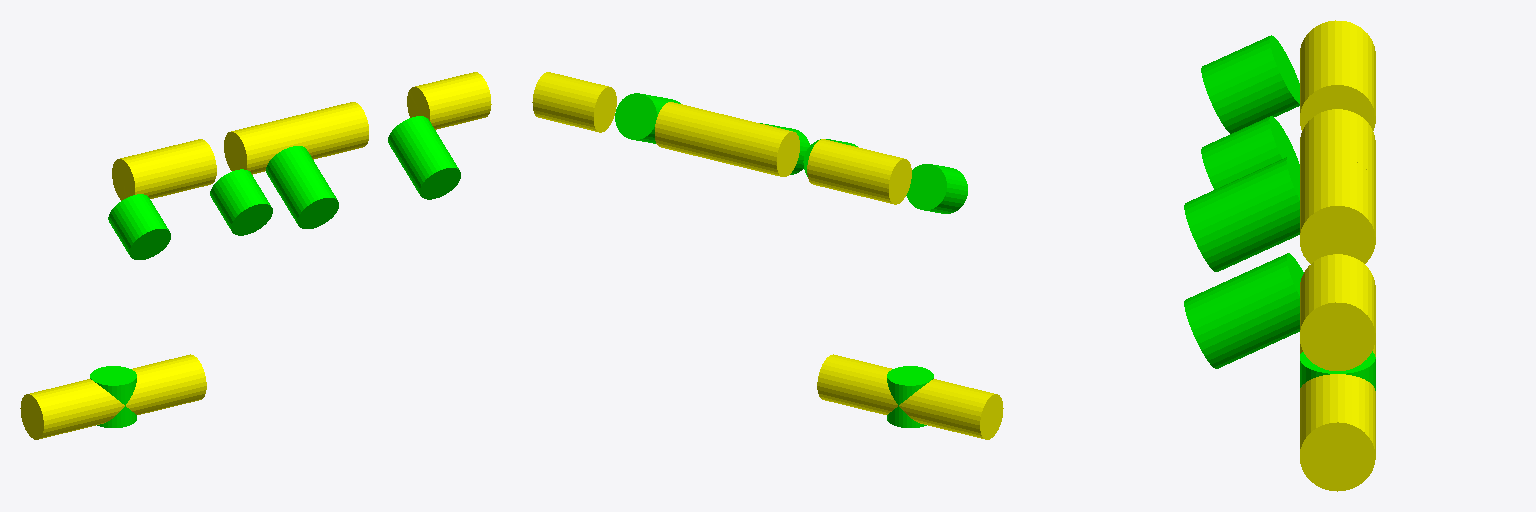
robot.urdf — example_robot:
<robot name="example_robot">

    <!-- Link 0 -->
    <link name="link0_passive">
        <visual>
            <material name="green">
                <color rgba="0 1 0 1"/>
            </material>
            <geometry>
                <cylinder length="0.2" radius="0.1"/>
            </geometry>
        </visual>
    </link>

    <link name="link0_x_axis">
        <visual>
            <material name="yellow">
                <color rgba="1 1 0 1"/>
            </material>
            <geometry>
                <cylinder length="0.8" radius="0.1"/>
            </geometry>
        </visual>
    </link>

    <joint name="q0_x" type="fixed">
        <origin xyz="0 0 0" rpy="0 1.571 0"/>
        <parent link="link0_passive"/>
        <child link="link0_x_axis"/>
    </joint>

    <!-- Link 1 -->
    <link name="link1"/>
    <link name="link1_x_axis">
        <visual>
            <origin xyz="0 0 0.25" rpy="0 0 0"/>
            <material name="yellow"/>
            <geometry>
                <cylinder length="0.4" radius="0.1"/>
            </geometry>
        </visual>
    </link>

    <joint name="q1" type="revolute">
        <origin xyz="0 0 1" rpy="0 0 0"/>
        <parent link="link0_passive"/>
        <child link="link1"/>
        <axis xyz="0 0 1"/>
        <limit effort="100" lower="-1.571" upper="1.571" velocity="1.0"/>
    </joint>

    <joint name="joint1_passive" type="fixed">
        <origin xyz="0 0 0" rpy="90 0 0"/>
        <parent link="link1"/>
        <child link="link1_passive"/>
    </joint>

    <link name="link1_passive">
        <visual>
            <origin xyz="0 0 0.25" rpy="0 0 0"/>
            <material name="green"/>
            <geometry>
                <cylinder length="0.2" radius="0.1"/>
            </geometry>
        </visual>
    </link>

    <joint name="joint1_x" type="fixed">
        <origin xyz="0 0 0" rpy="0 1.571 0"/>
        <parent link="link1_passive"/>
        <child link="link1_x_axis"/>
    </joint>

    <!-- Link 2 -->
    <link name="link2"/>
    <link name="link2_x_axis">
        <visual>
            <origin xyz="0 0 0.25" rpy="0 0 0"/>
            <material name="yellow"/>
            <geometry>
                <cylinder length="0.3" radius="0.1"/>
            </geometry>
        </visual>
    </link>

    <joint name="q2" type="revolute">
        <origin xyz="0 0 0" rpy="0 0 0"/>
        <parent link="link1_passive"/>
        <child link="link2"/>
        <axis xyz="0 0 1"/>
        <limit effort="100" lower="-1.571" upper="1.571" velocity="1.0"/>
    </joint>

    <joint name="joint2_passive" type="fixed">
        <origin xyz="0.5 0 0" rpy="0 0 0"/>
        <parent link="link2"/>
        <child link="link2_passive"/>
    </joint>

    <link name="link2_passive">
        <visual>
            <origin xyz="0 0 0.25" rpy="0 0 0"/>
            <material name="green"/>
            <geometry>
                <cylinder length="0.2" radius="0.1"/>
            </geometry>
        </visual>
    </link>

    <joint name="joint2_x" type="fixed">
        <origin xyz="0 0 0" rpy="0 1.571 0"/>
        <parent link="link2_passive"/>
        <child link="link2_x_axis"/>
    </joint>

    <!-- Link 3 -->
    <link name="link3"/>
    <link name="link3_x_axis">
        <visual>
            <origin xyz="0 0 0.25" rpy="0 0 0"/>
            <material name="yellow"/>
            <geometry>
                <cylinder length="0.3" radius="0.1"/>
            </geometry>
        </visual>
    </link>

    <joint name="q3" type="revolute">
        <origin xyz="0 0 0" rpy="0 0 0"/>
        <parent link="link2_passive"/>
        <child link="link3"/>
        <axis xyz="0 0 1"/>
        <limit effort="100" lower="-1.571" upper="1.571" velocity="1.0"/>
    </joint>

    <joint name="joint3_passive" type="fixed">
        <origin xyz="0.3 0 0" rpy="0 0 0"/>
        <parent link="link3"/>
        <child link="link3_passive"/>
    </joint>

    <link name="link3_passive">
        <visual>
            <origin xyz="0 0 0.25" rpy="0 0 0"/>
            <material name="green"/>
            <geometry>
                <cylinder length="0.3" radius="0.1"/>
            </geometry>
        </visual>
    </link>

    <joint name="joint3_x" type="fixed">
        <origin xyz="0 0 0" rpy="0 1.571 0"/>
        <parent link="link3_passive"/>
        <child link="link3_x_axis"/>
    </joint>

    <!-- Link 6 -->
    <link name="link6"/>
    <link name="link6_x_axis">
        <visual>
            <origin xyz="0 0 0.25" rpy="0 0 0"/>
            <material name="yellow"/>
            <geometry>
                <cylinder length="0.3" radius="0.1"/>
            </geometry>
        </visual>
    </link>

    <joint name="q4" type="revolute">
        <origin xyz="0.3 0 0" rpy="0 0 0"/>
        <parent link="link3_passive"/>
        <child link="link6"/>
        <axis xyz="0 0 1"/>
        <limit effort="100" lower="-1.571" upper="1.571" velocity="1.0"/>
    </joint>

    <joint name="joint4_passive" type="fixed">
        <origin xyz="0.3 0 0" rpy="0 0 0"/>
        <parent link="link6"/>
        <child link="link6_passive"/>
    </joint>

    <link name="link6_passive">
        <visual>
            <origin xyz="0 0 0.25" rpy="0 0 0"/>
            <material name="green"/>
            <geometry>
                <cylinder length="0.3" radius="0.1"/>
            </geometry>
        </visual>
    </link>

    <joint name="joint4_x" type="fixed">
        <origin xyz="0 0 0" rpy="0 1.571 0"/>
        <parent link="link6_passive"/>
        <child link="link6_x_axis"/>
    </joint>

</robot>

--- What the picture shows (computed from the rendered views, not written in the file) ---
Views: 3 orthographic renders of the robot side by side, from view 1: azimuth 30°, elevation 25°; view 2: azimuth 150°, elevation 25°; view 3: azimuth 270°, elevation 25°.
Model example_robot with 14 links and 13 joints (4 revolute, 9 fixed), rooted at link0_passive, posed all joints at 0.
Visible links, largest first — view 1: link0_x_axis, link1_x_axis, link6_passive, link3_passive, link6_x_axis, link2_x_axis, link3_x_axis, link2_passive, link1_passive, link0_passive; view 2: link0_x_axis, link1_x_axis, link6_x_axis, link2_x_axis, link3_x_axis, link1_passive, link6_passive, link0_passive; view 3: link6_passive, link3_passive, link0_x_axis, link6_x_axis, link3_x_axis, link1_x_axis, link1_passive, link2_passive, link2_x_axis, link0_passive.
Boxes of the visible links, bbox=[...] form: link0_x_axis: bbox=[20, 354, 206, 439]; link1_x_axis: bbox=[112, 139, 216, 200]; link6_passive: bbox=[388, 116, 460, 199]; link3_passive: bbox=[266, 146, 338, 228]; link6_x_axis: bbox=[407, 72, 491, 129]; link2_x_axis: bbox=[224, 117, 307, 174]; link3_x_axis: bbox=[292, 102, 368, 159]; link2_passive: bbox=[210, 169, 272, 235]; link1_passive: bbox=[108, 194, 170, 259]; link0_passive: bbox=[90, 366, 136, 427]; link0_x_axis: bbox=[817, 354, 1003, 439]; link1_x_axis: bbox=[807, 139, 911, 204]; link6_x_axis: bbox=[532, 72, 616, 132]; link2_x_axis: bbox=[716, 117, 799, 176]; link3_x_axis: bbox=[655, 102, 731, 161]; link1_passive: bbox=[906, 164, 967, 213]; link6_passive: bbox=[615, 93, 680, 143]; link0_passive: bbox=[887, 366, 933, 427]; link6_passive: bbox=[1184, 253, 1303, 368]; link3_passive: bbox=[1184, 157, 1299, 271]; link0_x_axis: bbox=[1300, 341, 1375, 491]; link6_x_axis: bbox=[1300, 254, 1375, 370]; link3_x_axis: bbox=[1300, 157, 1375, 263]; link1_x_axis: bbox=[1300, 20, 1375, 130]; link1_passive: bbox=[1201, 35, 1299, 133]; link2_passive: bbox=[1201, 116, 1299, 189]; link2_x_axis: bbox=[1300, 109, 1375, 187]; link0_passive: bbox=[1300, 351, 1375, 390].
Size in the robot's own frame: 2.2 by 0.5024 by 1.2 metres.
Geometry: primitives only (box / cylinder / sphere), no mesh files.